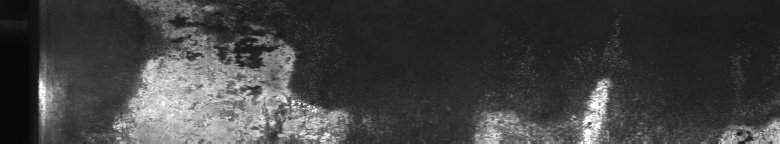kb: (140, 4, 371, 136)
